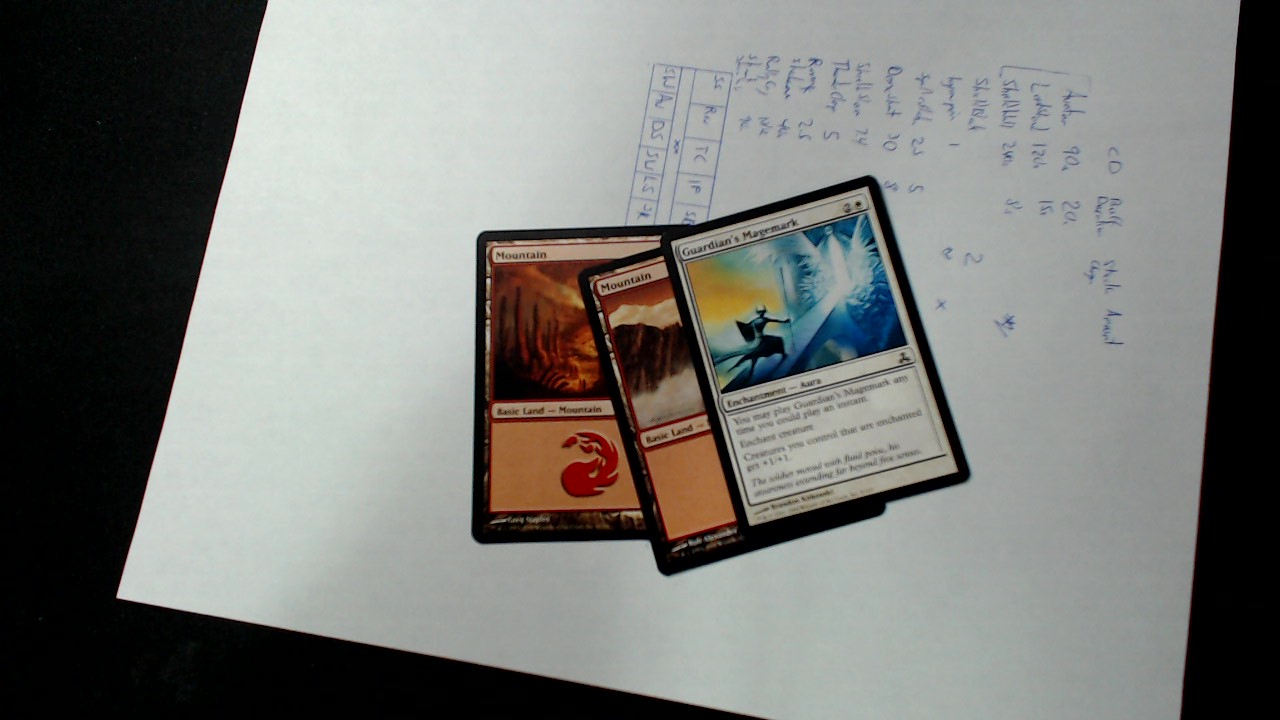MTG Card: (657, 173, 976, 535), (579, 210, 886, 581), (468, 223, 711, 546)
